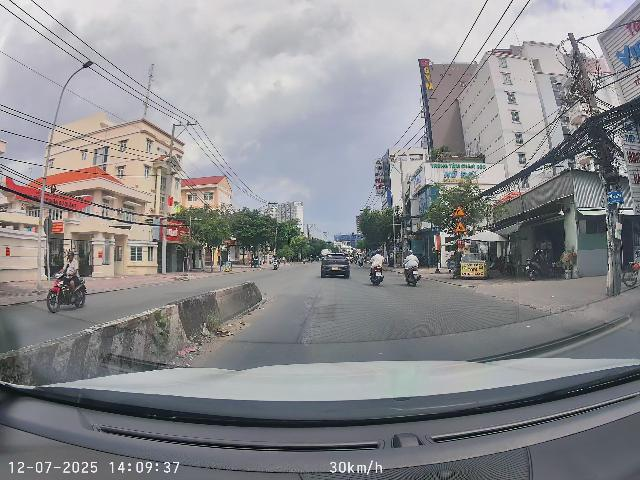201-cho-ngoat-nguy-hiem: (453, 205, 466, 217)
225-chu-y-tre-em: (454, 221, 467, 232)
